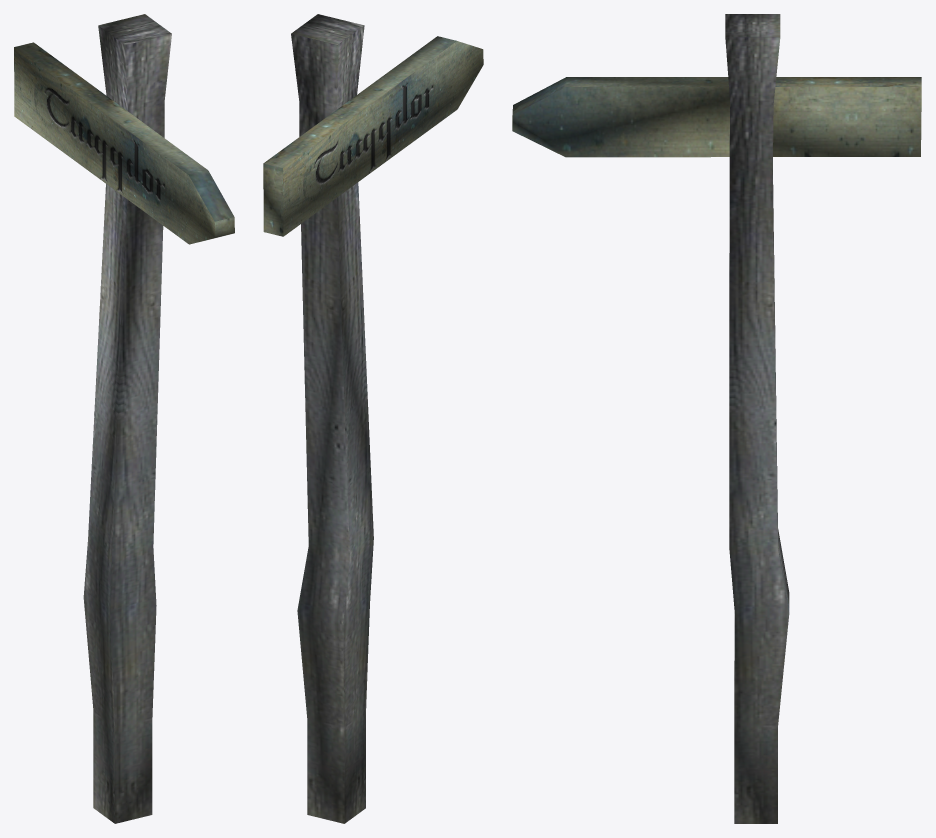
Rendered from signpost.obj.
3 renders of one model, left to right at view 1: azimuth 30°, elevation 25°; view 2: azimuth 150°, elevation 25°; view 3: azimuth 270°, elevation 25°, orthographic. The views are drawn at different scales.
Bounding box in the file's own units: 9.37 × 114 × 53.07.
1 material, 1 textured.
